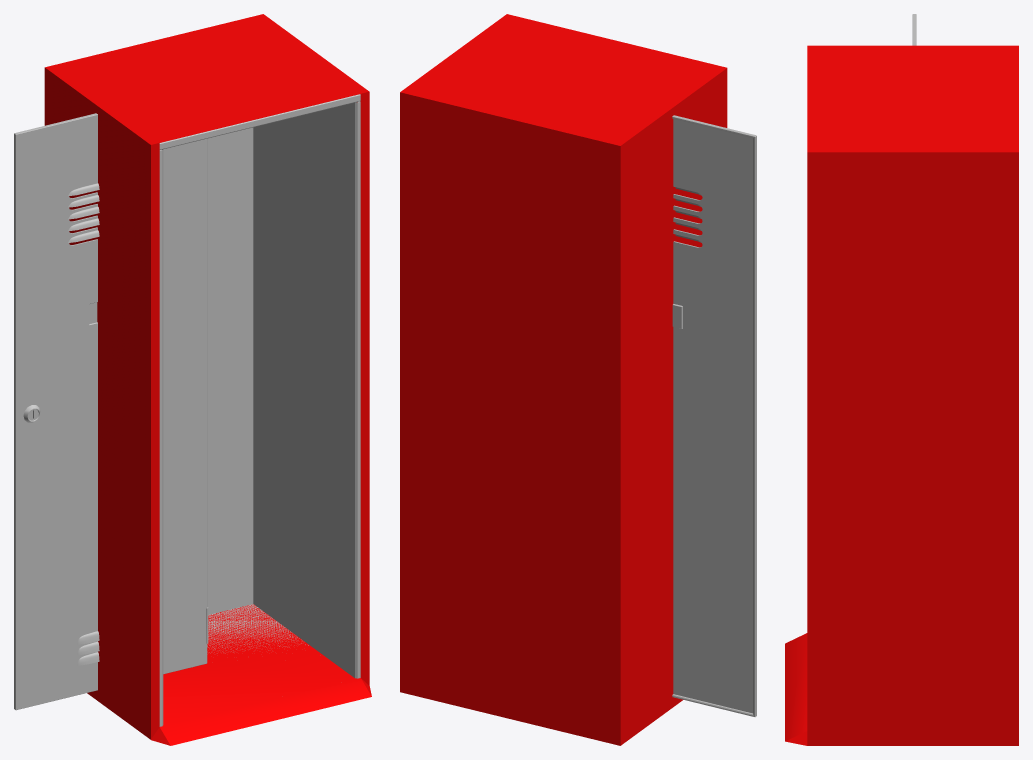
Rendered from locker_0001.fbx.
3 renders of one model, left to right at view 1: azimuth 30°, elevation 25°; view 2: azimuth 150°, elevation 25°; view 3: azimuth 270°, elevation 25°, orthographic.
Parts seen in each view (by area): view 1: locker_3, colmesh_1, door; view 2: colmesh_1, door; view 3: colmesh_1.
Part boxes in pixels (bbox=[...]): locker_3: bbox=[159, 94, 360, 726]; colmesh_1: bbox=[44, 14, 371, 745]; door: bbox=[14, 113, 208, 710]; colmesh_1: bbox=[400, 14, 727, 745]; door: bbox=[672, 115, 756, 716]; colmesh_1: bbox=[785, 45, 1018, 745].
Size of the model in its own units: 0.973 by 1.84 by 0.6559.
